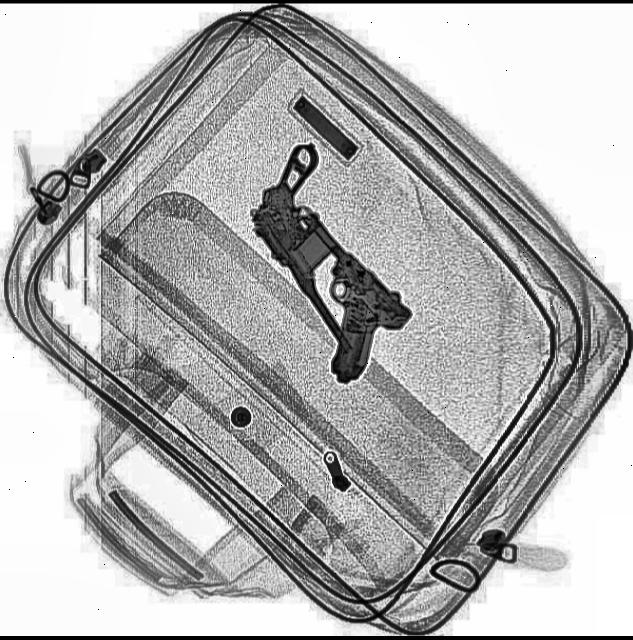Gun: (233, 138, 422, 360), (246, 208, 414, 392)
